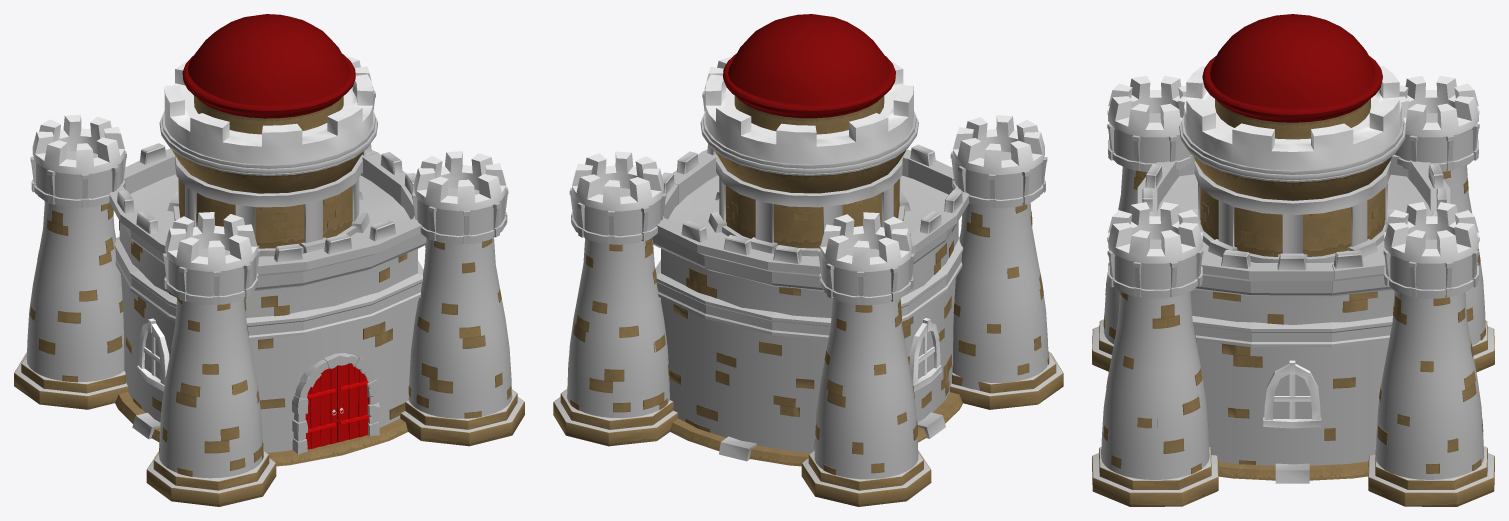
File: Castle.fbx
The picture shows the model from 3 angles, left to right: view 1: azimuth 30°, elevation 25°; view 2: azimuth 150°, elevation 25°; view 3: azimuth 270°, elevation 25°; orthographic projection. The views are drawn at different scales.
Visible parts, largest first — view 1: Top.003, Castle_low, Building_Border_003, Wood_Panel.004, Block_001.002; view 2: Top.003, Castle_low, Building_Border_003; view 3: Castle_low, Top.003, Building_Border_003.
Part boxes in pixels (x1,y1,x2,y2): Top.003: [14, 56, 524, 506]; Castle_low: [115, 14, 417, 466]; Building_Border_003: [109, 148, 426, 340]; Wood_Panel.004: [305, 363, 369, 449]; Block_001.002: [292, 353, 379, 454]; Top.003: [553, 56, 1063, 506]; Castle_low: [661, 14, 962, 466]; Building_Border_003: [652, 149, 969, 340]; Castle_low: [1142, 14, 1446, 483]; Top.003: [1092, 75, 1494, 506]; Building_Border_003: [1137, 154, 1450, 347].
Size of the model in its own units: 1144 by 1170 by 1083.
